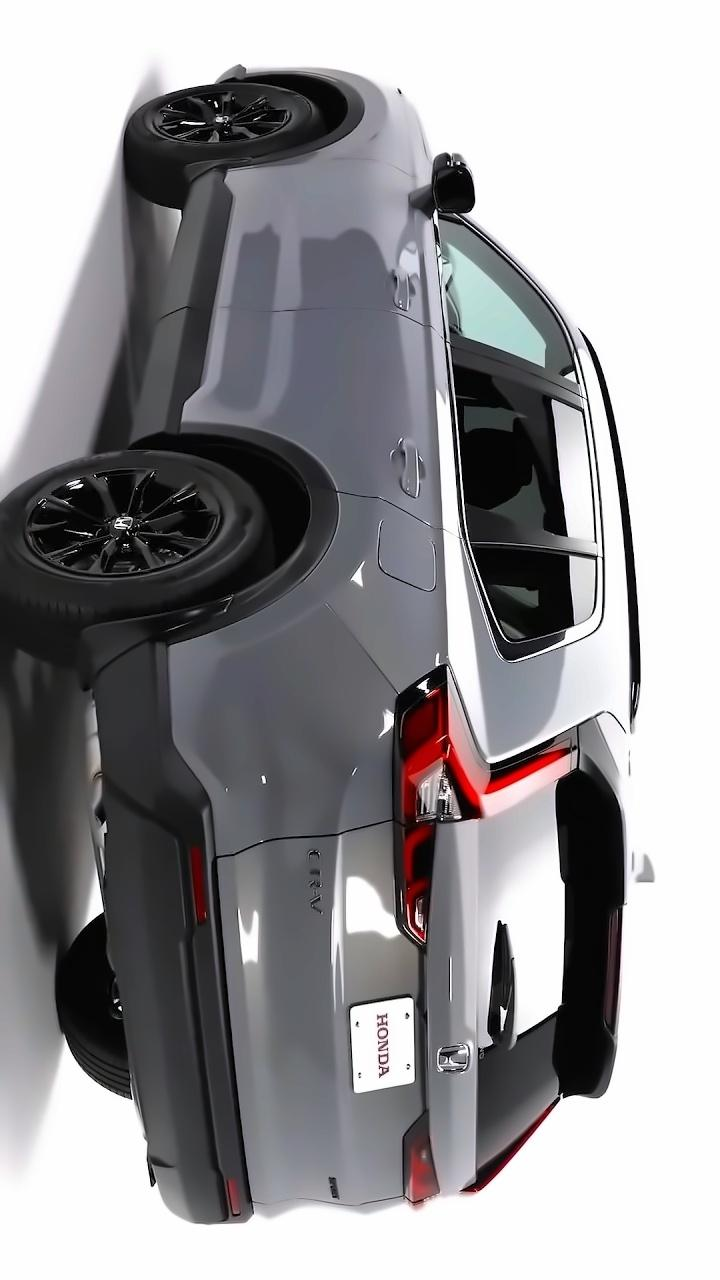Car boot: (207, 785, 627, 1213)
Fender - -F-L-: (205, 86, 493, 181)
Fender - -R-L-: (255, 468, 541, 770)
Front bumper: (183, 45, 388, 95)
Passenger-s door - -F-L-: (183, 145, 604, 384)
Passenger-s door - -R-L-: (168, 303, 638, 561)
Rear bumper: (70, 625, 397, 1224)
Rear light - -L-: (370, 648, 593, 958)
Rear light - -R-: (390, 1083, 575, 1238)
Side bumper - -L-: (120, 150, 241, 468)
Side mirror - -L-: (403, 138, 477, 229)
